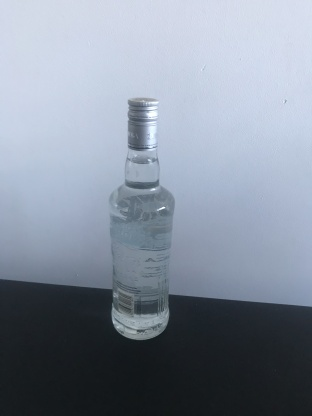nakretka: (125, 95, 160, 152)
